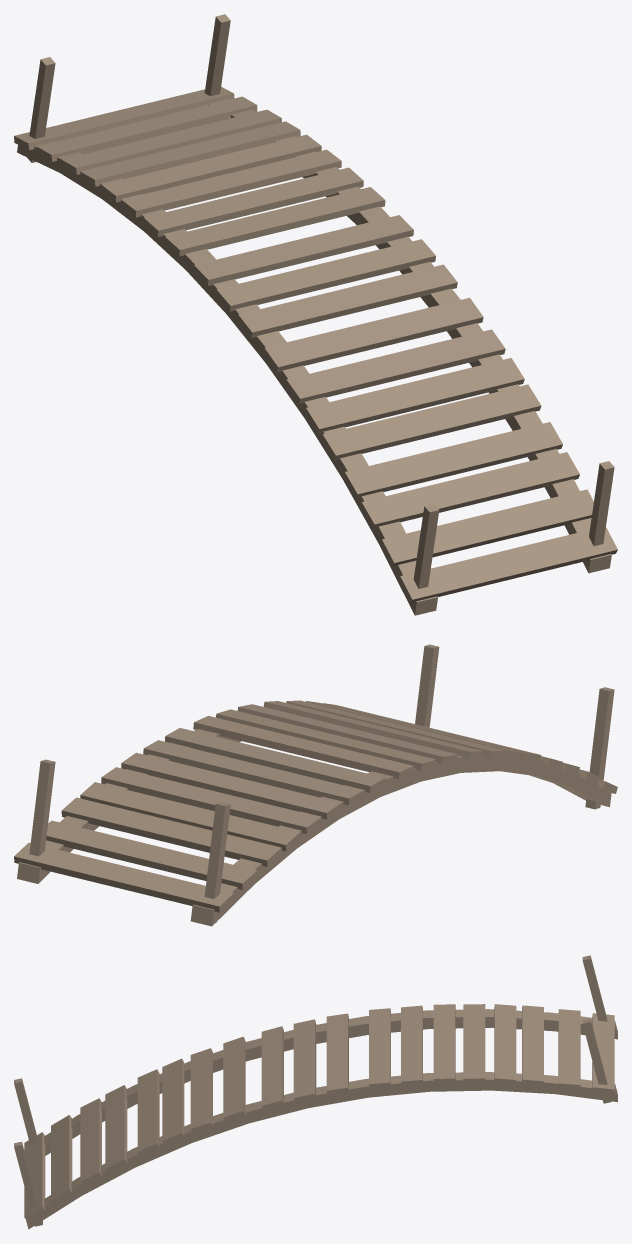
File: Bridge_Fixed.fbx
The picture shows the model from 3 angles, top to bottom: view 1: azimuth 30°, elevation 25°; view 2: azimuth 150°, elevation 25°; view 3: azimuth 270°, elevation 25°; orthographic projection. The views are drawn at different scales.
Parts seen in each view (by area): view 1: bridgeFixed; view 2: bridgeFixed; view 3: bridgeFixed.
Part boxes in pixels (<box>): bridgeFixed: <box>14,14,617,615</box>; bridgeFixed: <box>14,644,617,926</box>; bridgeFixed: <box>14,955,617,1229</box>.
Bounding box in the file's own units: 2.93 × 3.78 × 10.07.
